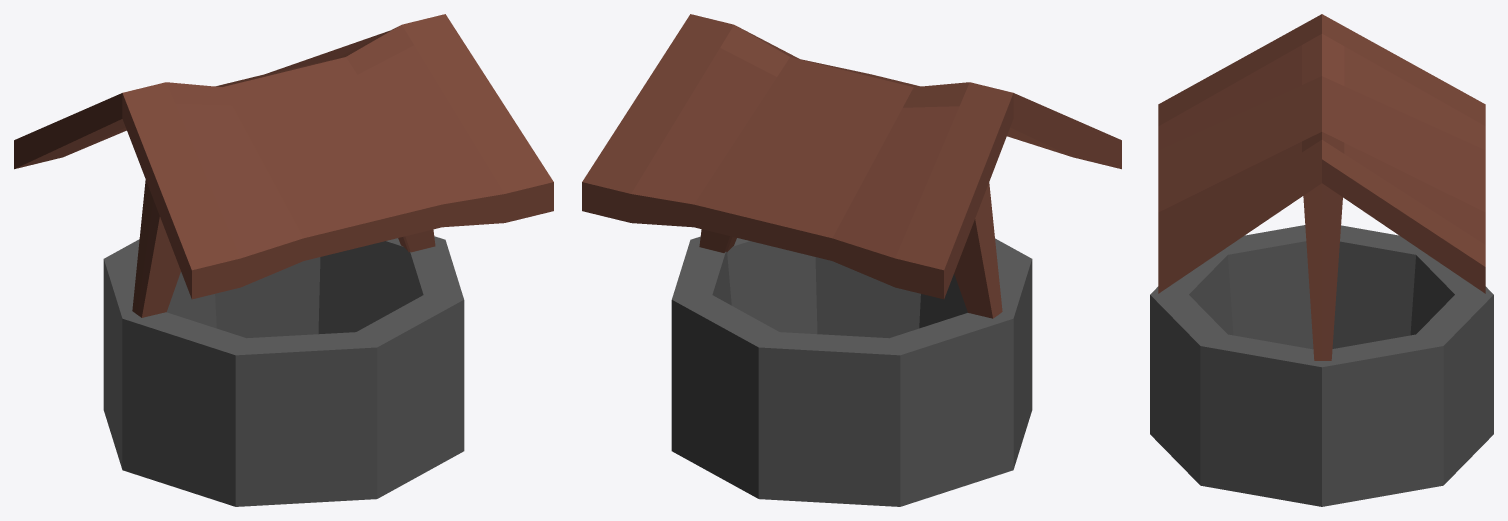
The model's file is gBaconJamWell.fbx.
The picture shows the model from 3 angles, left to right: view 1: azimuth 30°, elevation 25°; view 2: azimuth 150°, elevation 25°; view 3: azimuth 270°, elevation 25°; orthographic projection. The views are drawn at different scales.
Visible parts, largest first — view 1: Cylinder; view 2: Cylinder; view 3: Cylinder.
Boxes of the visible parts, x1,y1,x2,y2 form: Cylinder: (14,14,553,506); Cylinder: (582,14,1121,506); Cylinder: (1150,14,1493,506).
Bounding box in the file's own units: 2.24 × 2.23 × 2.
